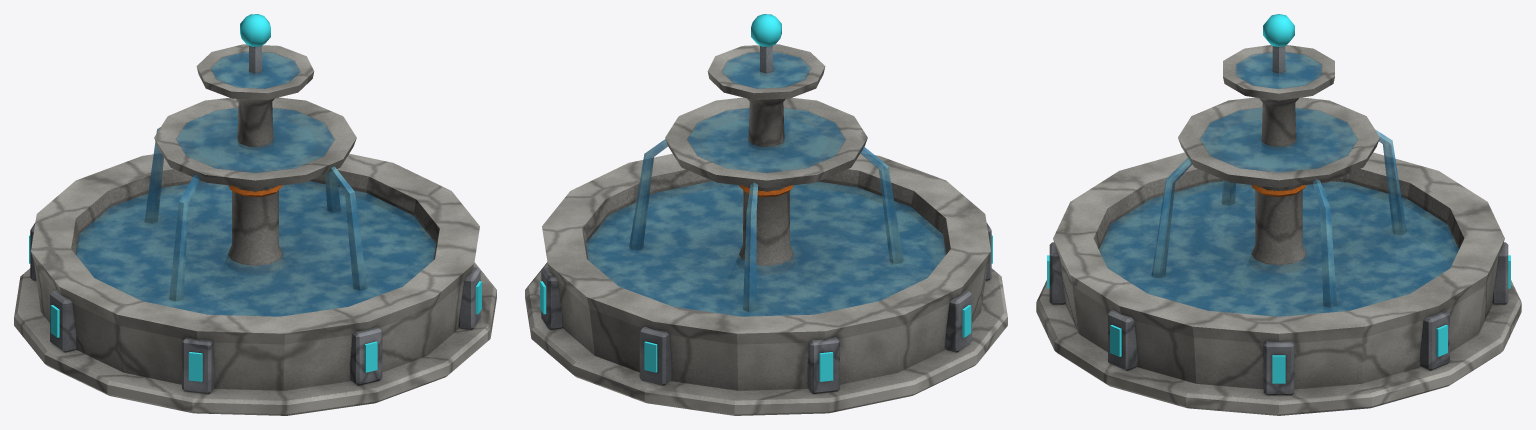
Rendered from fuente_humana.fbx.
3 renders of one model, left to right at view 1: azimuth 30°, elevation 25°; view 2: azimuth 150°, elevation 25°; view 3: azimuth 270°, elevation 25°, orthographic.
Parts seen in each view (by area): view 1: fuente_humana, fuente_humana_agua, fuente_humana_neon; view 2: fuente_humana, fuente_humana_agua, fuente_humana_neon; view 3: fuente_humana, fuente_humana_agua, fuente_humana_neon.
Part boxes in pixels (x1,y1,x2,y2): fuente_humana: (14, 44, 496, 415); fuente_humana_agua: (76, 51, 435, 316); fuente_humana_neon: (29, 14, 481, 381); fuente_humana: (525, 44, 1007, 415); fuente_humana_agua: (586, 51, 945, 316); fuente_humana_neon: (540, 14, 992, 381); fuente_humana: (1036, 45, 1521, 415); fuente_humana_agua: (1099, 52, 1458, 316); fuente_humana_neon: (1047, 14, 1510, 383).
Bounding box in the file's own units: 14.4 × 9.8 × 14.4.
Materials: 3 (3 with a texture image).
